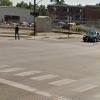Crosswalk: (7, 57, 99, 100)
